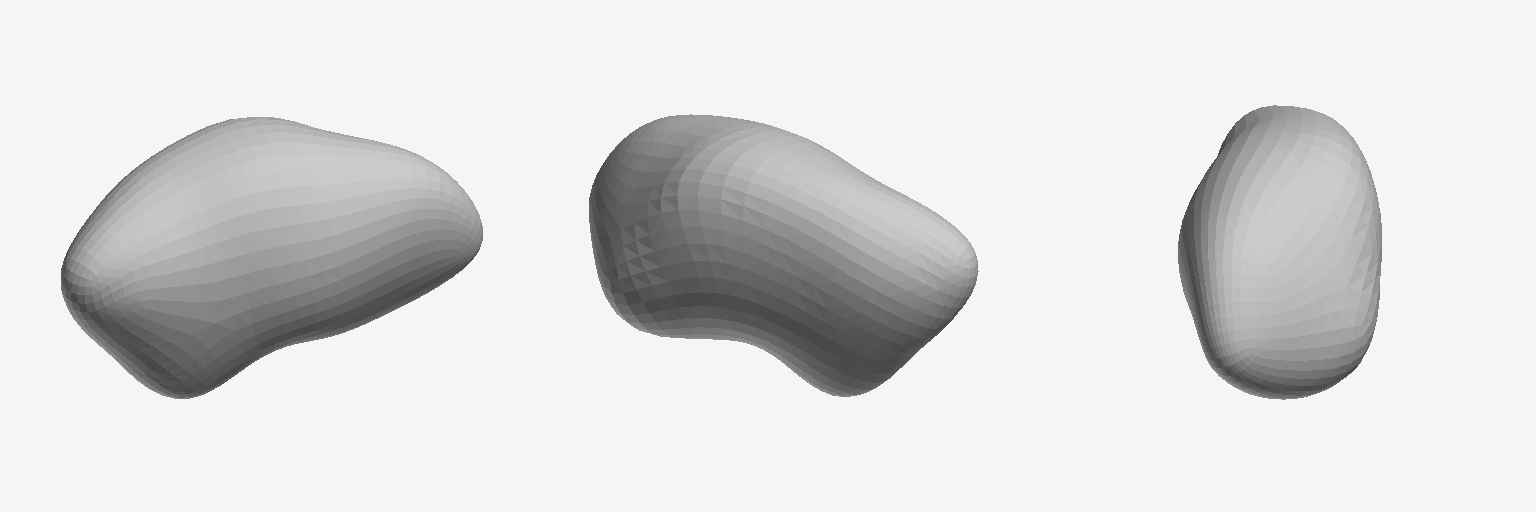
Rendered from TreeShaderTrial2.obj.
3 views of the same model, side by side, from view 1: azimuth 30°, elevation 25°; view 2: azimuth 150°, elevation 25°; view 3: azimuth 270°, elevation 25° (orthographic).
Visible parts, largest first — view 1: Group45923; view 2: Group45923; view 3: Group45923.
Boxes of the visible parts, box(x1,y1,x2,y2) form: Group45923: box(61, 117, 482, 398); Group45923: box(589, 114, 978, 396); Group45923: box(1178, 105, 1381, 399).
Size of the model in its own units: 4.56 by 2.67 by 2.03.